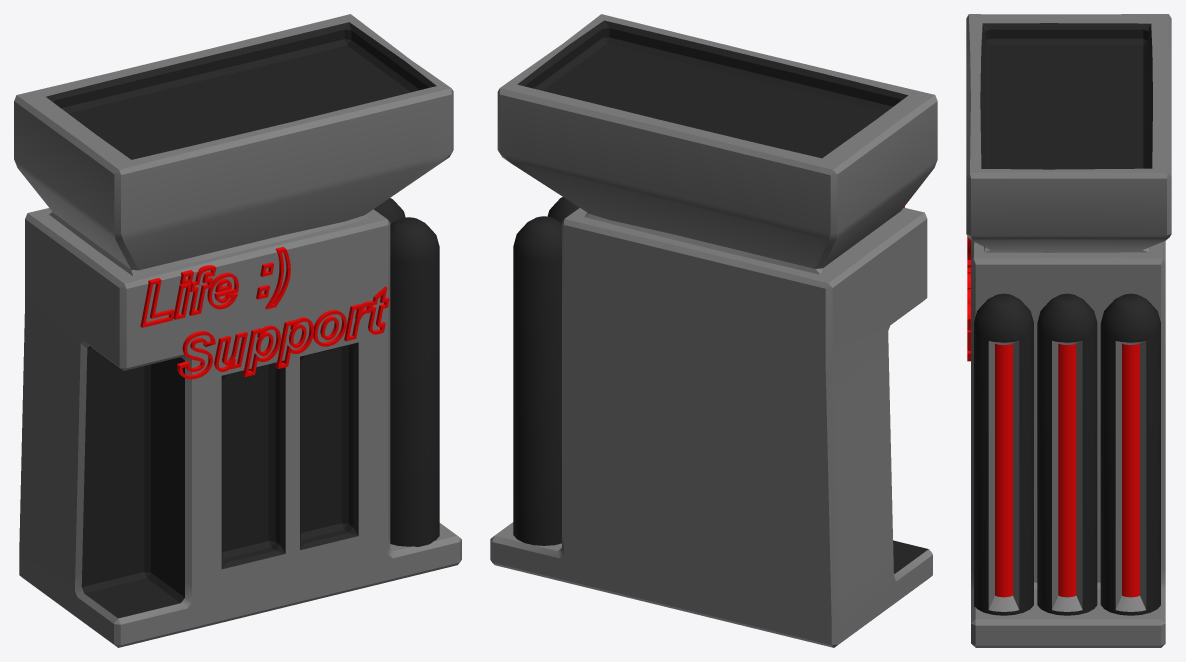
The model's file is Lifesupport Machine.fbx.
3 views of the same model, side by side, from view 1: azimuth 30°, elevation 25°; view 2: azimuth 150°, elevation 25°; view 3: azimuth 270°, elevation 25° (orthographic). The views are drawn at different scales.
Visible parts, largest first — view 1: Box008; view 2: Box008; view 3: Box008.
Part boxes in pixels (x1,y1,x2,y2): Box008: (14, 14, 461, 647); Box008: (490, 14, 937, 647); Box008: (966, 14, 1171, 647).
Bounding box in the file's own units: 201 × 265 × 105.
